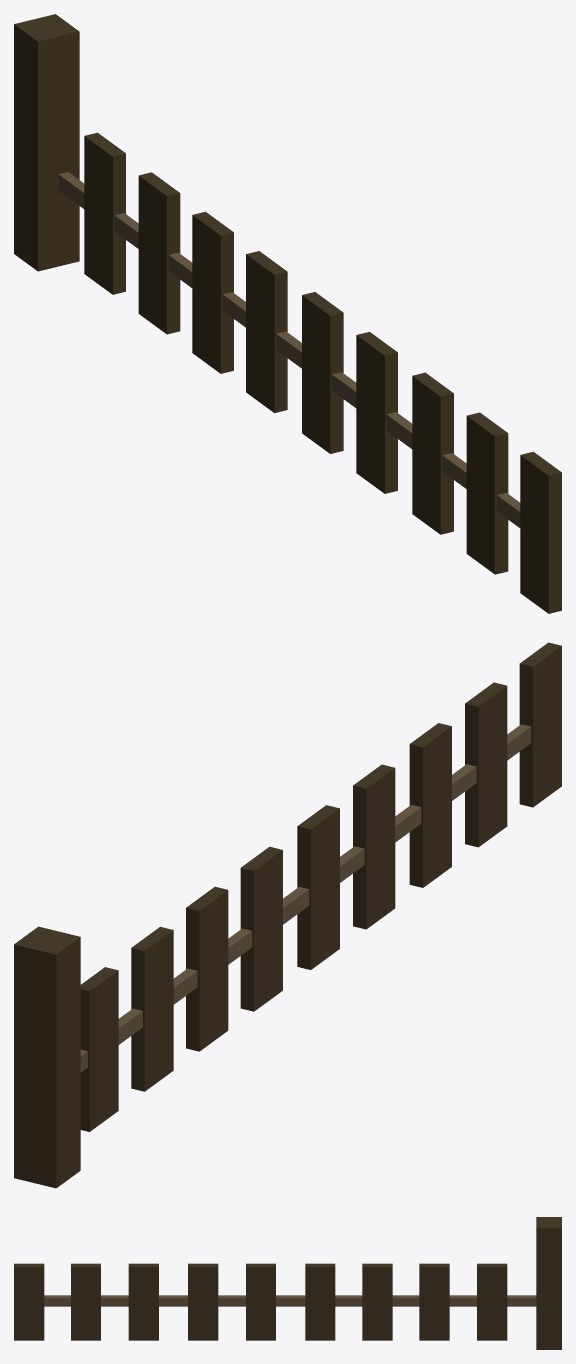
Rendered from Fence.fbx.
3 views of the same model, one above another, from view 1: azimuth 30°, elevation 25°; view 2: azimuth 150°, elevation 25°; view 3: azimuth 270°, elevation 25° (orthographic). The views are drawn at different scales.
Parts seen in each view (by area): view 1: polySurface2, pCube12; view 2: polySurface2, pCube12; view 3: polySurface2, pCube12.
Boxes of the visible parts, x1,y1,x2,y2 form: polySurface2: (58,132,561,613); pCube12: (14,14,79,271); polySurface2: (80,642,561,1131); pCube12: (14,926,80,1188); polySurface2: (14,1263,536,1340); pCube12: (536,1217,561,1349).
Size of the model in its own units: 1.14 by 6 by 24.42.
